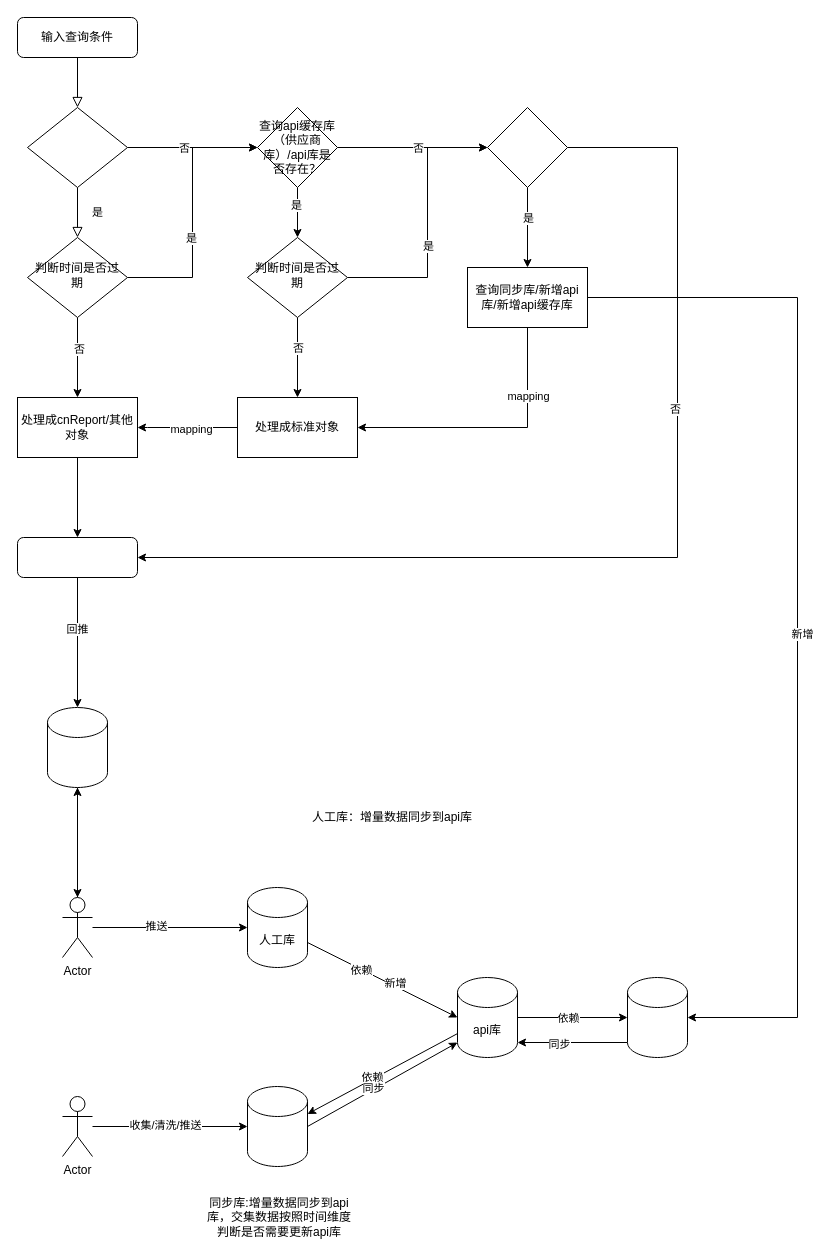
Image size: 830x1256. Some labels were removed from this diagram. The shapes that lost their labels are listed below. From the top down, each one's centre as x and y in pixels, then its label:
At point 77,147: "判断人工库是否存在".
At point 527,147: "查询供应商api,是否返回数据".
At point 77,557: "返回".
At point 77,747: "omp".
At point 657,1017: "供应商库".
At point 277,1126: "同步库".
